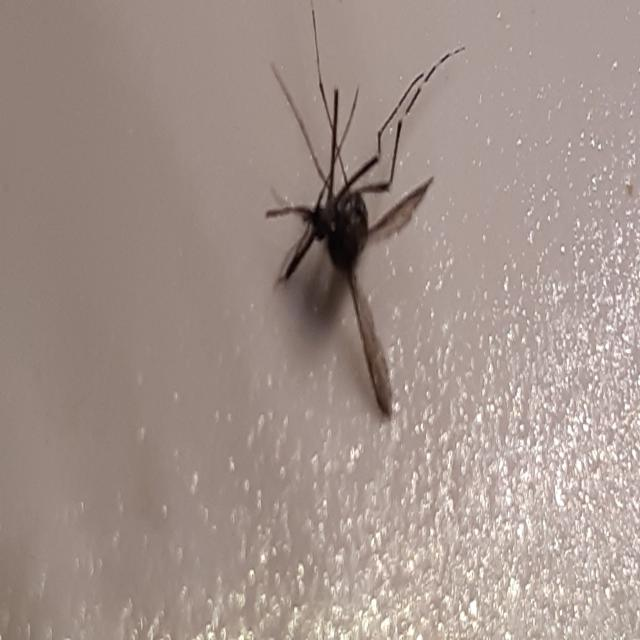albopictus: (261, 13, 461, 417)
